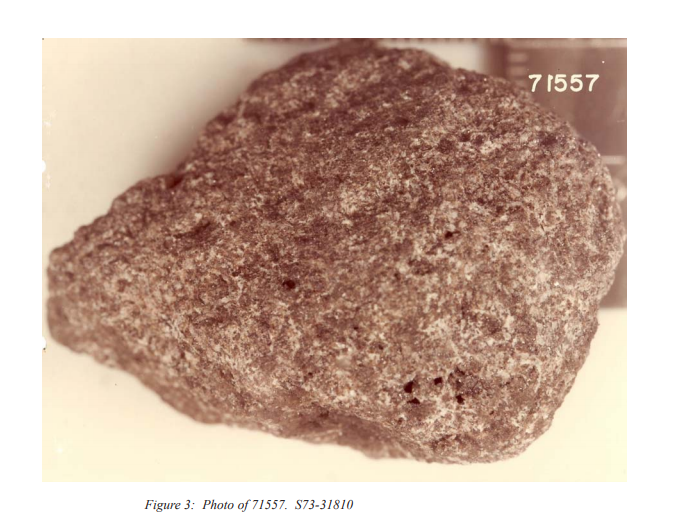Basalt: (75, 76, 614, 459), (185, 206, 600, 409)
